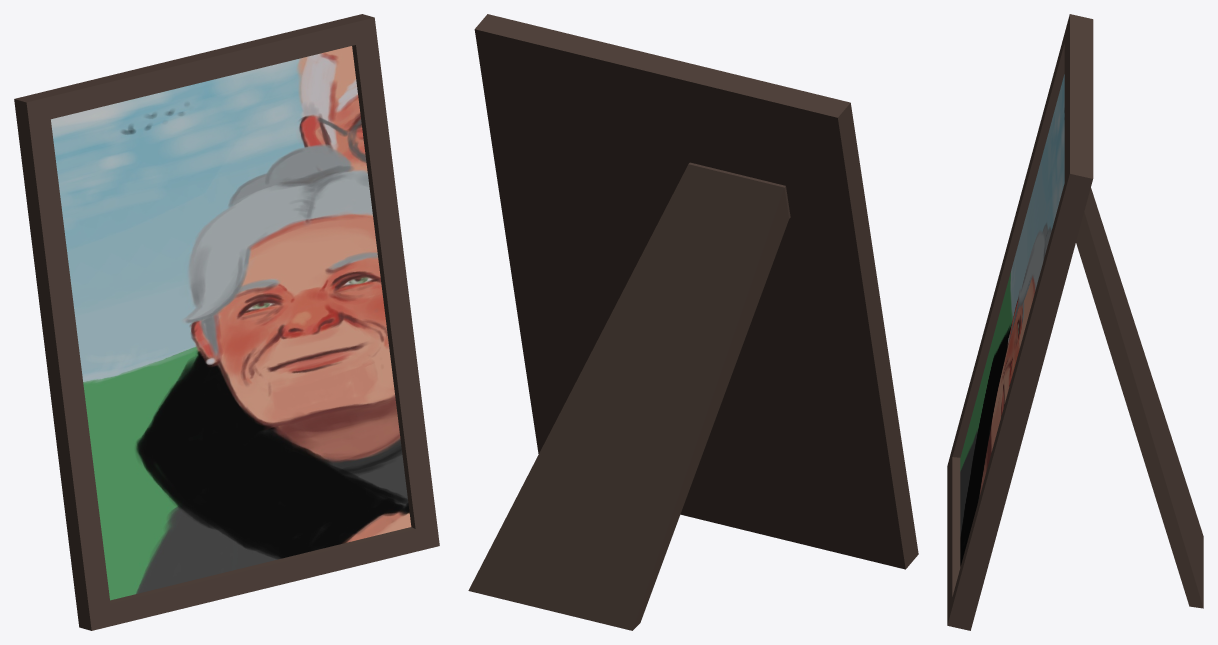
The model's file is Sem_Fotolijstje1_Color.fbx.
3 views of the same model, side by side, from view 1: azimuth 30°, elevation 25°; view 2: azimuth 150°, elevation 25°; view 3: azimuth 270°, elevation 25° (orthographic). The views are drawn at different scales.
Visible parts, largest first — view 1: pCube2; view 2: pCube2; view 3: pCube2.
Boxes of the visible parts, x1,y1,x2,y2 form: pCube2: [14, 14, 439, 630]; pCube2: [468, 14, 918, 630]; pCube2: [947, 14, 1203, 630].
Size of the model in its own units: 1 by 1.34 by 0.6779.
2 materials, 1 textured.
